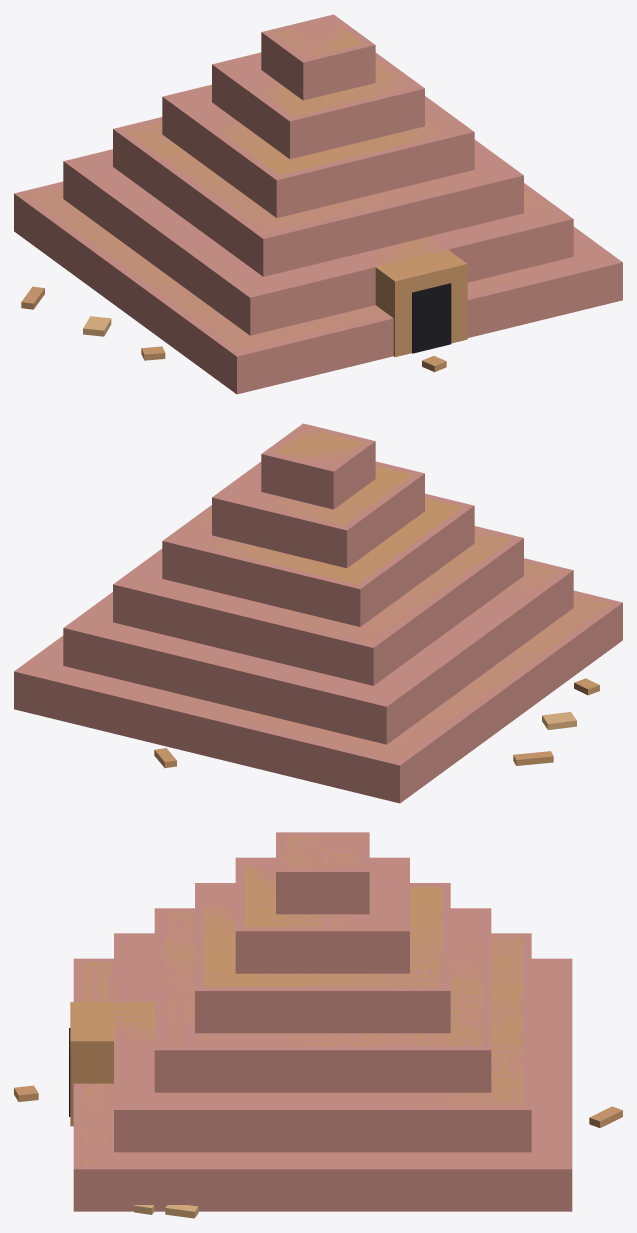
Rendered from StepPyramid.fbx.
The picture shows the model from 3 angles, top to bottom: view 1: azimuth 30°, elevation 25°; view 2: azimuth 150°, elevation 25°; view 3: azimuth 270°, elevation 25°; orthographic projection. The views are drawn at different scales.
Parts seen in each view (by area): view 1: PyramidPink, SandDark, Coal; view 2: PyramidPink, SandDark; view 3: PyramidPink, SandDark, Sand.
Boxes of the visible parts, bbox=[...] form: PyramidPink: bbox=[14, 14, 622, 394]; SandDark: bbox=[21, 25, 576, 372]; Coal: bbox=[412, 283, 451, 353]; PyramidPink: bbox=[14, 423, 622, 803]; SandDark: bbox=[61, 429, 610, 768]; PyramidPink: bbox=[73, 832, 572, 1211]; SandDark: bbox=[14, 836, 622, 1165]; Sand: bbox=[134, 1205, 198, 1218].
Bounding box in the file's own units: 19.55 × 9 × 19.54.
